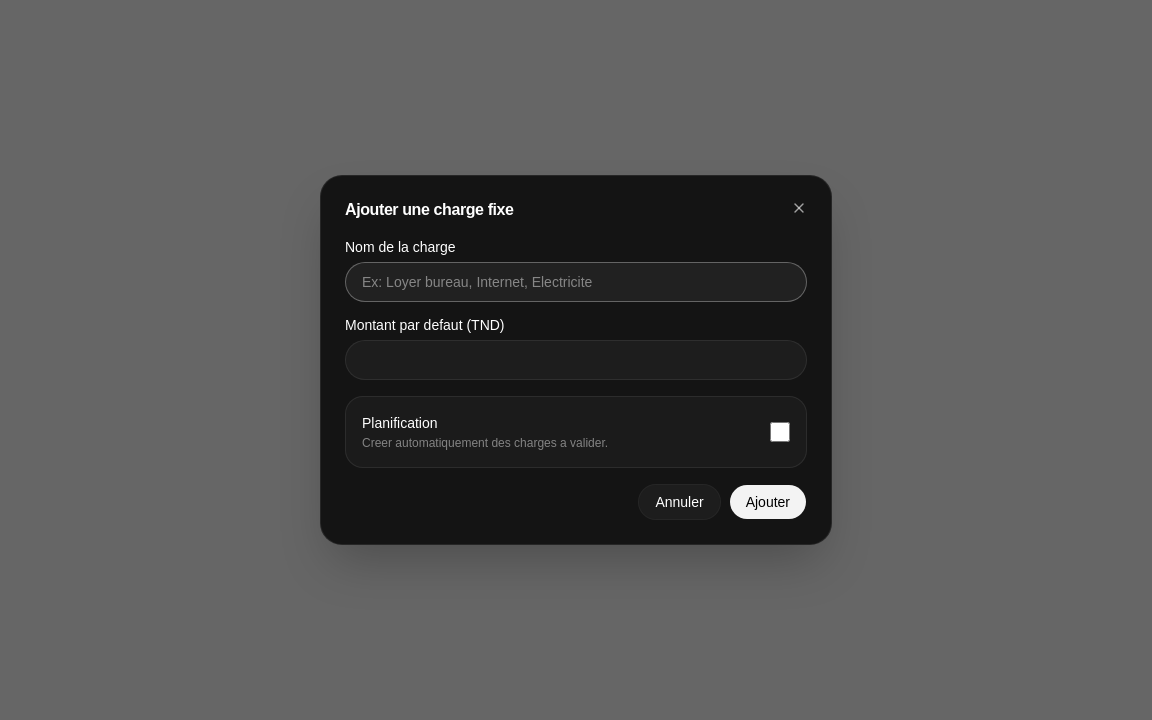
Scenario: FixedChargeFormDialog › shows schedule controls when planification is enabled
Click the checkbox: coordinates (780, 432) [770,422,790,442]
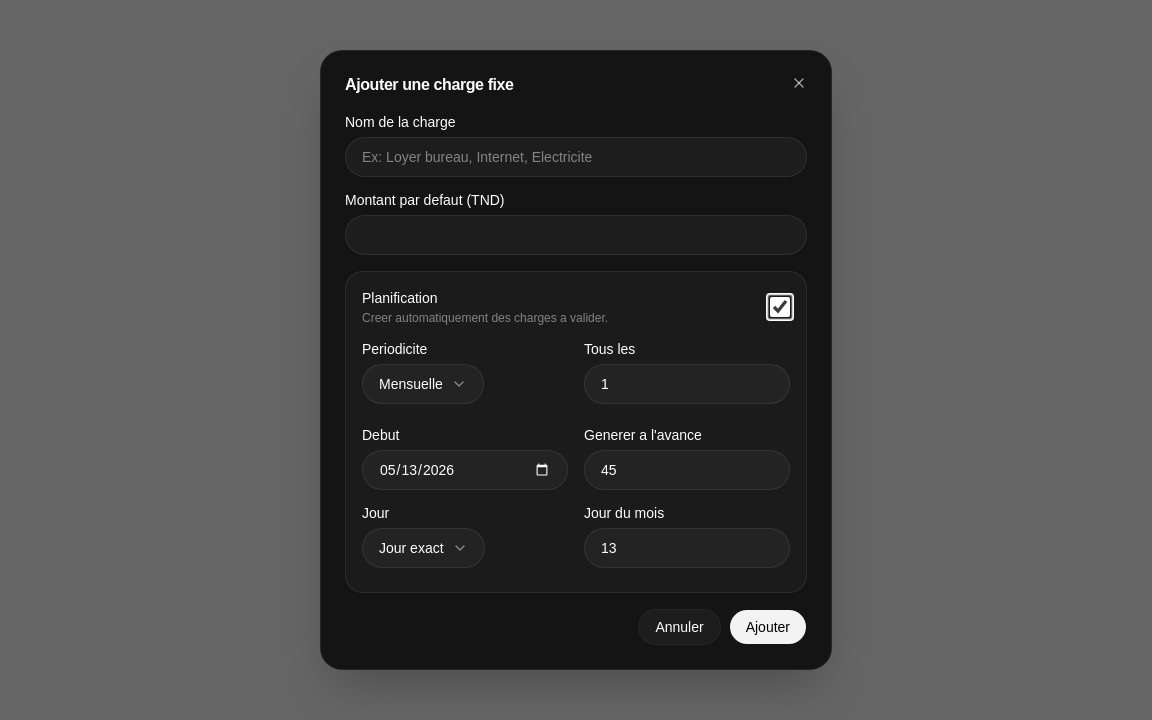
Result: the text "Periodicite" is shown at [362,341,427,357]
Result: the date field labelled "Debut" is shown at [362,450,568,490]
Result: the number field labelled "Generer a l'avance" is shown at [584,450,790,490]
